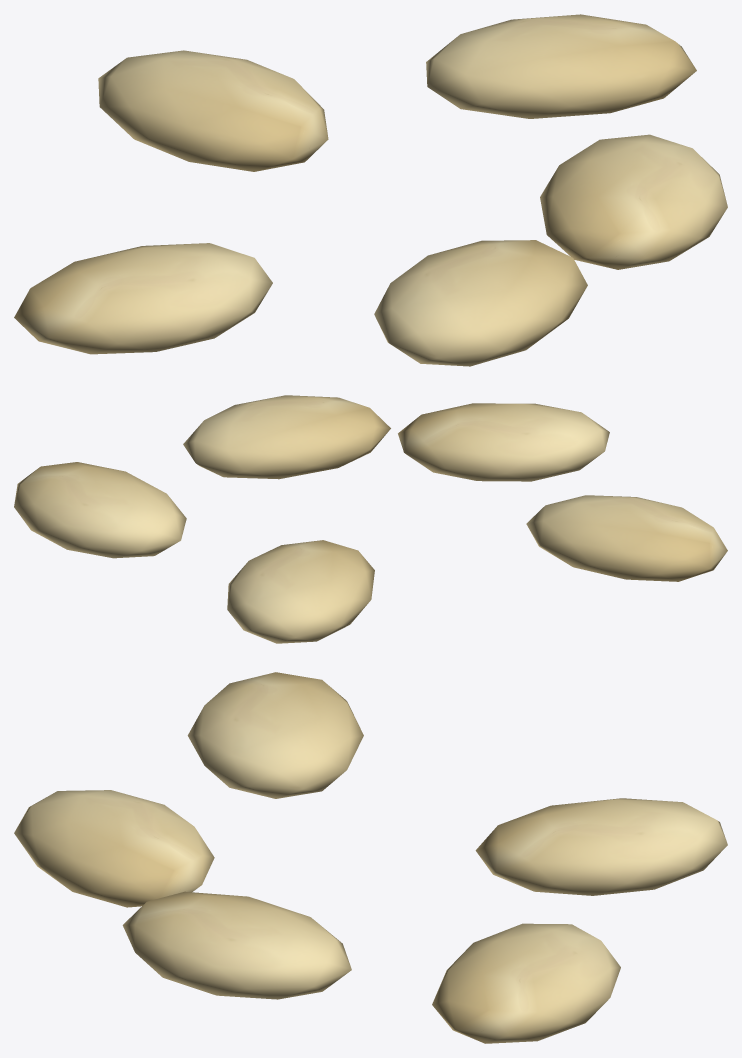
The model's file is NP_Eggplant_Seed.fbx.
3 views of the same model, one above another, from view 1: azimuth 30°, elevation 25°; view 2: azimuth 150°, elevation 25°; view 3: azimuth 270°, elevation 25° (orthographic). The views are drawn at different scales.
Parts seen in each view (by area): view 1: NP_Eggplant_Seed; view 2: NP_Eggplant_Seed; view 3: NP_Eggplant_Seed.
Boxes of the visible parts, <box> form: NP_Eggplant_Seed: <box>14,14,727,366</box>; NP_Eggplant_Seed: <box>14,395,727,643</box>; NP_Eggplant_Seed: <box>14,672,727,1043</box>.
Size of the model in its own units: 14.23 by 1.2 by 12.15.
